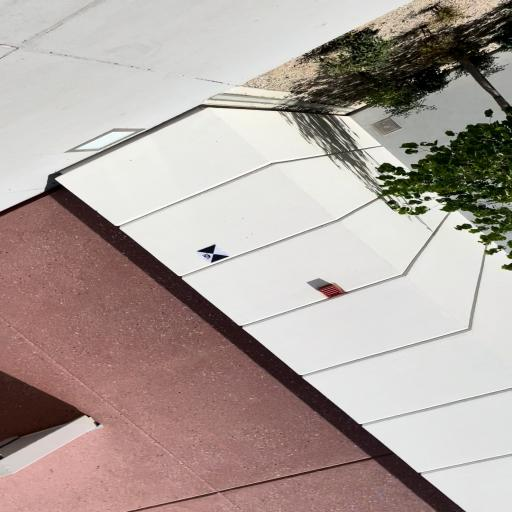target6: (196, 243, 230, 264)
